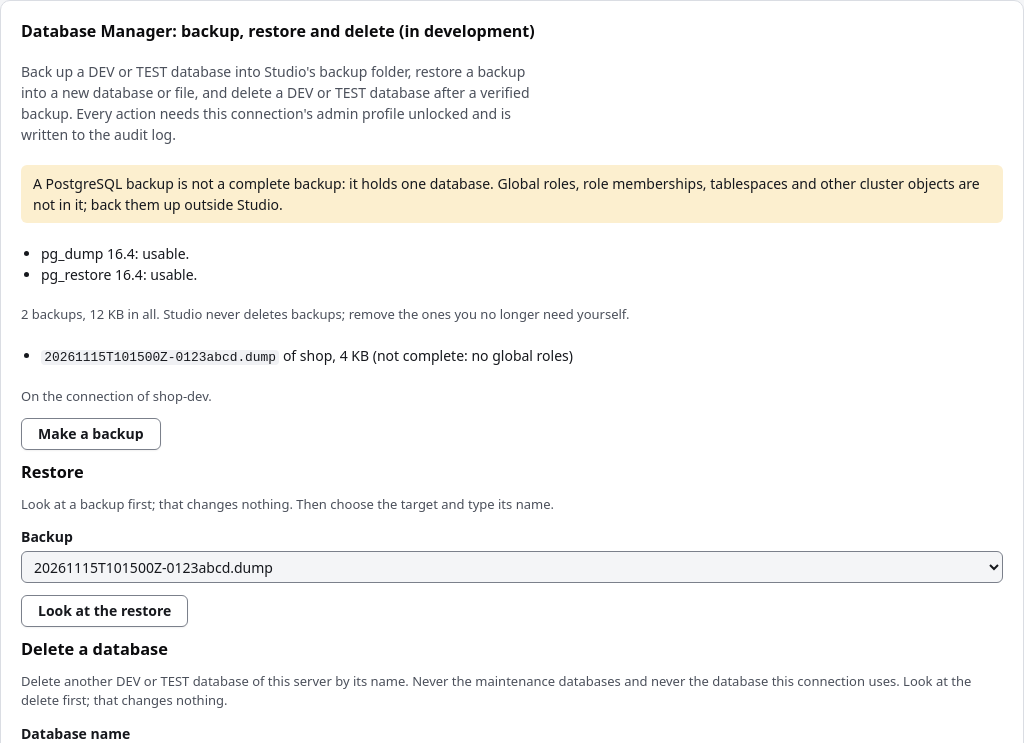
it: the Database Manager section › shows the server's refusal and its issues by code
Click the button with test id "database-manager-backup" at (91, 434), box [21,418,161,450]
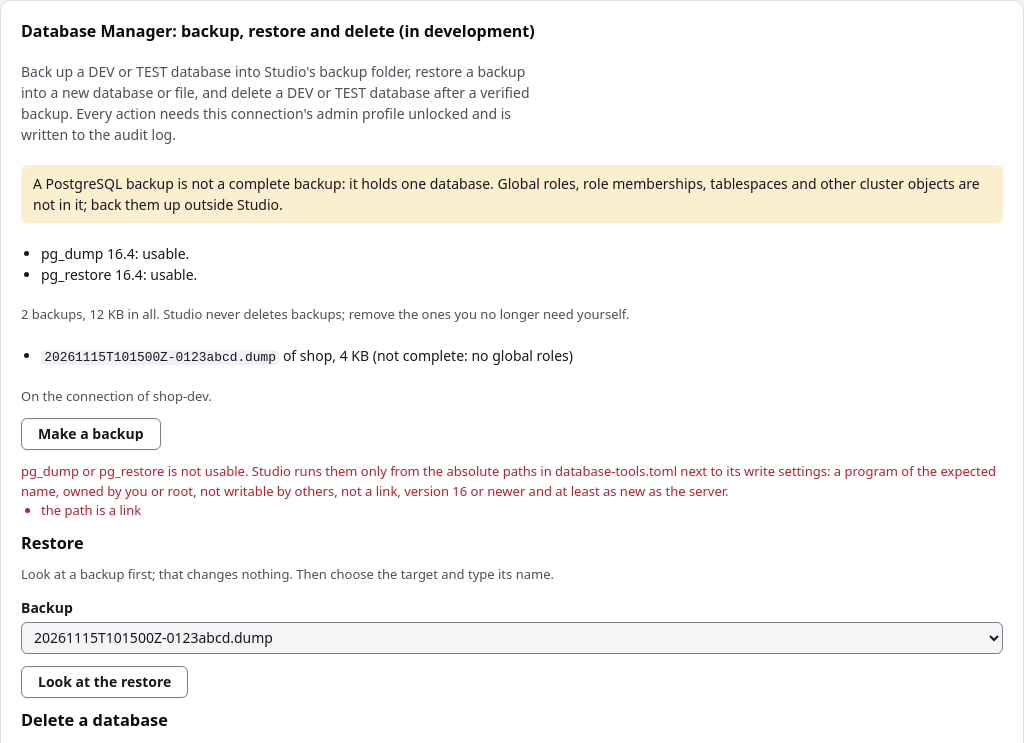
Now the message with test id "database-manager-problem" shows "pg_dump or pg_restore is not usable", box [21,462,996,500]
Now the message with test id "database-manager-problem" shows "the path is a link", box [41,501,141,519]
